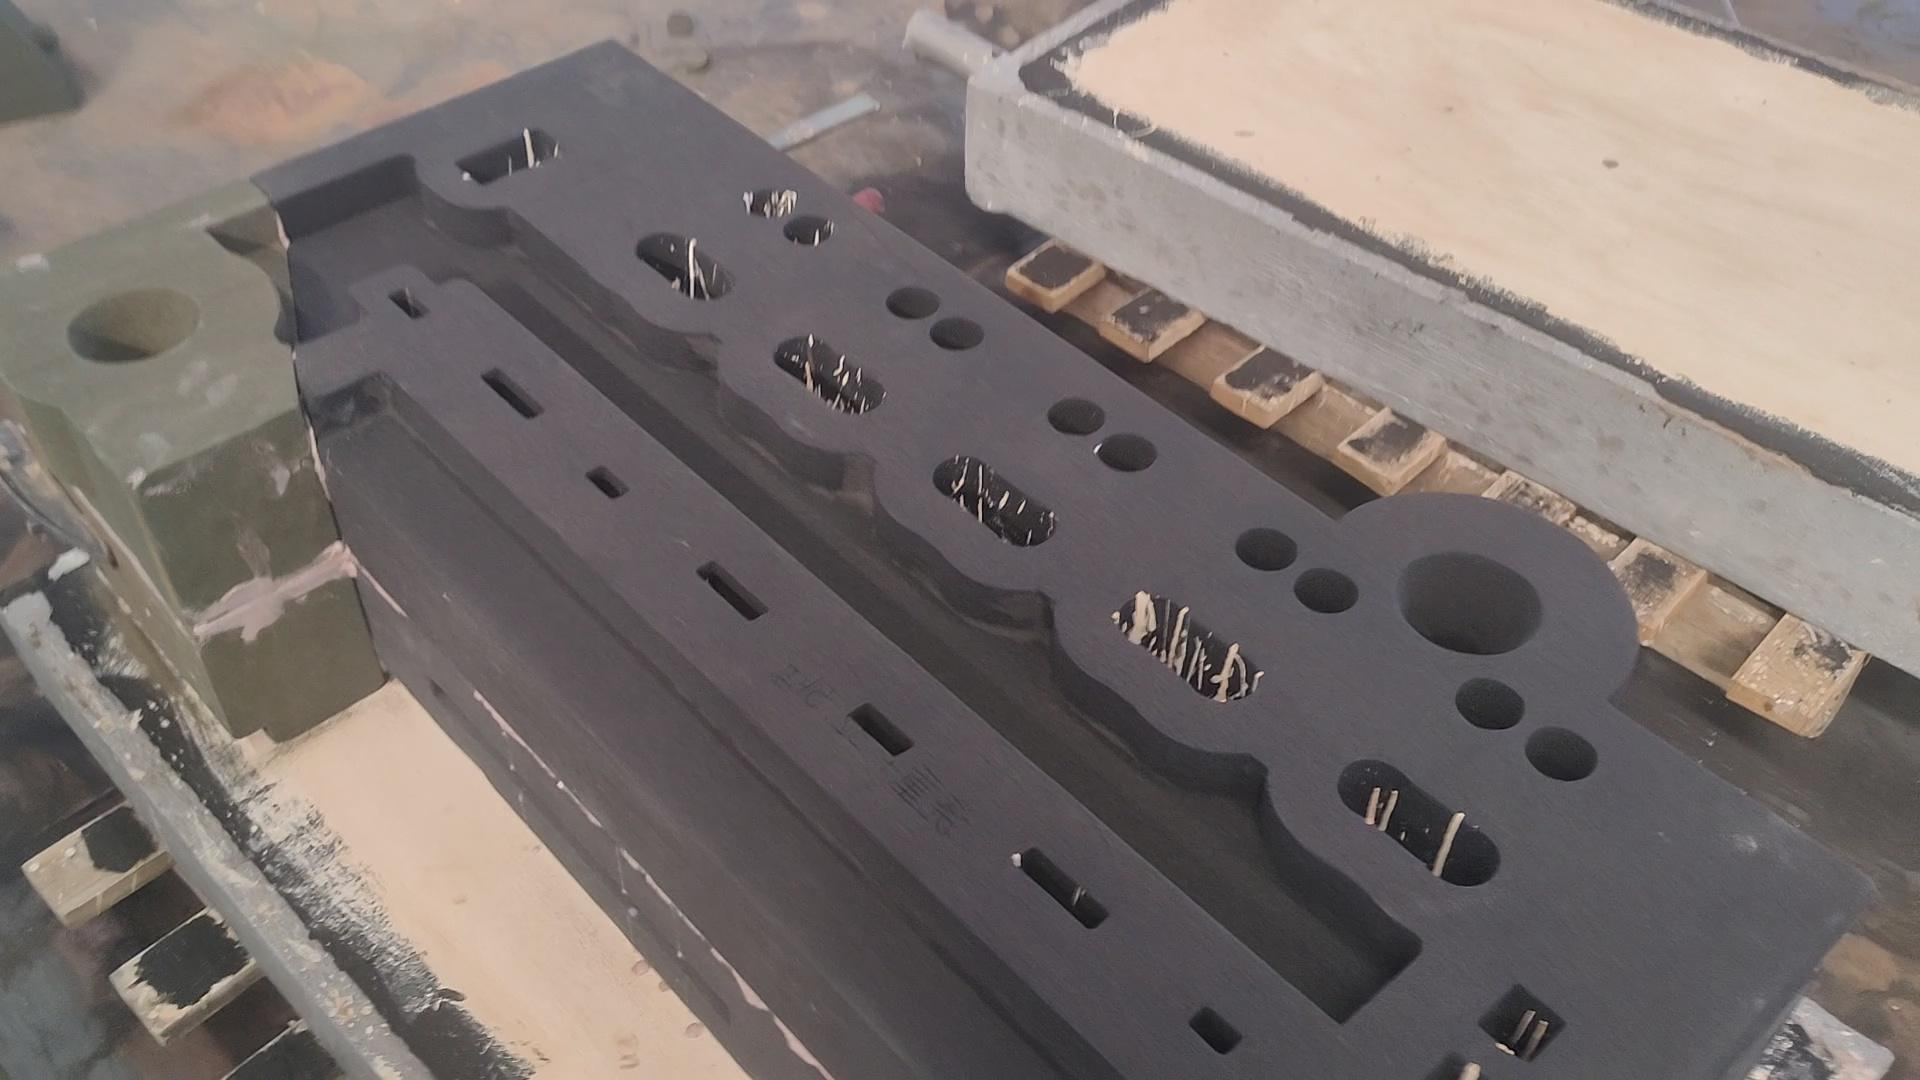pouring hole: (1395, 553, 1543, 655), (65, 286, 200, 363)
